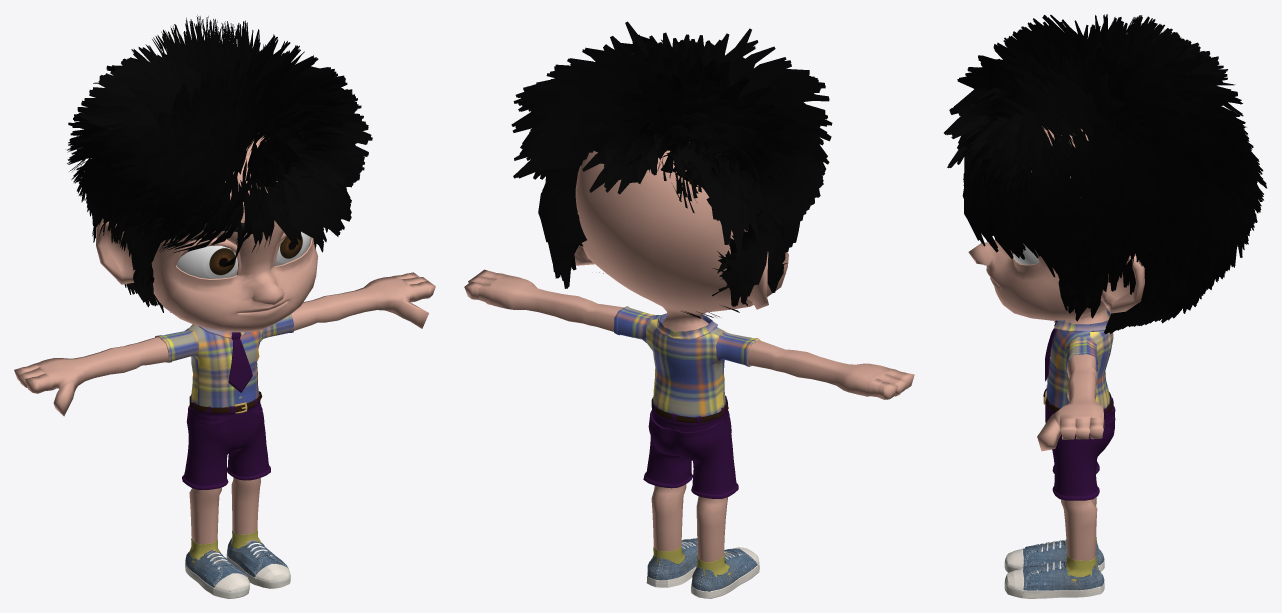
3 views of the same model, side by side, from view 1: azimuth 30°, elevation 25°; view 2: azimuth 150°, elevation 25°; view 3: azimuth 270°, elevation 25° (orthographic). The views are drawn at different scales.
Visible parts, largest first — view 1: pelo, cuerpo2, pantalon_01, camisa2, zappas_M_06_der, zappas_M_06_izq, r_ojo_der_01, corbata_01, l_ojo_izq_01, cinto_D_01_a; view 2: pelo, cuerpo2, camisa2, pantalon_01, zappas_M_06_der, zappas_M_06_izq; view 3: pelo, cuerpo2, camisa2, pantalon_01, zappas_M_06_izq, zappas_M_06_der, L_medias.
Boxes of the visible parts, box(x1,y1,x2,y2) form: pelo: box(67, 15, 372, 312); cuerpo2: box(14, 133, 435, 552); pantalon_01: box(182, 394, 270, 489); camisa2: box(155, 314, 293, 407); zappas_M_06_der: box(185, 550, 249, 598); zappas_M_06_izq: box(226, 537, 290, 588); r_ojo_der_01: box(176, 245, 237, 278); corbata_01: box(228, 332, 252, 392); l_ojo_izq_01: box(274, 231, 310, 265); cinto_D_01_a: box(189, 391, 262, 413); pelo: box(511, 21, 832, 318); cuerpo2: box(464, 142, 914, 561); camisa2: box(614, 306, 760, 417); pantalon_01: box(643, 399, 738, 498); zappas_M_06_der: box(690, 547, 759, 598); zappas_M_06_izq: box(646, 538, 697, 587); pelo: box(944, 14, 1266, 334); cuerpo2: box(968, 126, 1144, 564); camisa2: box(1046, 308, 1113, 408); pantalon_01: box(1045, 397, 1115, 500); zappas_M_06_izq: box(1004, 561, 1104, 598); zappas_M_06_der: box(1004, 540, 1104, 572); L_medias: box(1066, 554, 1098, 581).
Size of the model in its own units: 17.45 by 21.33 by 11.37.
16 materials, 5 textured.
